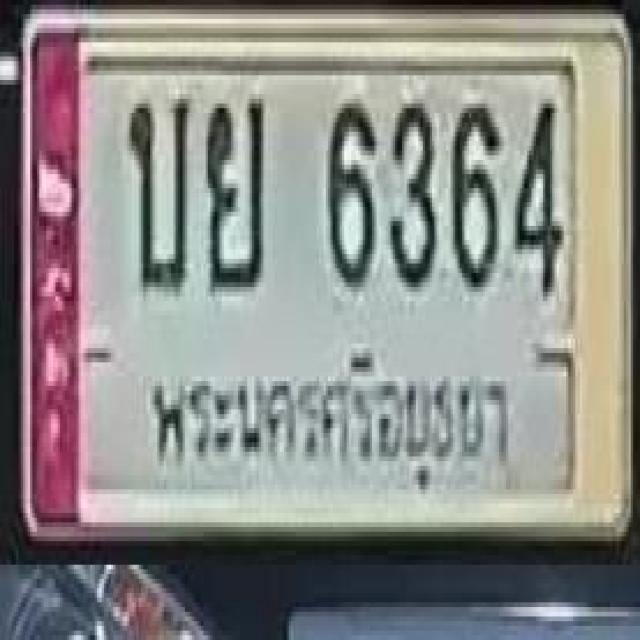license_plate: (18, 4, 640, 549)
